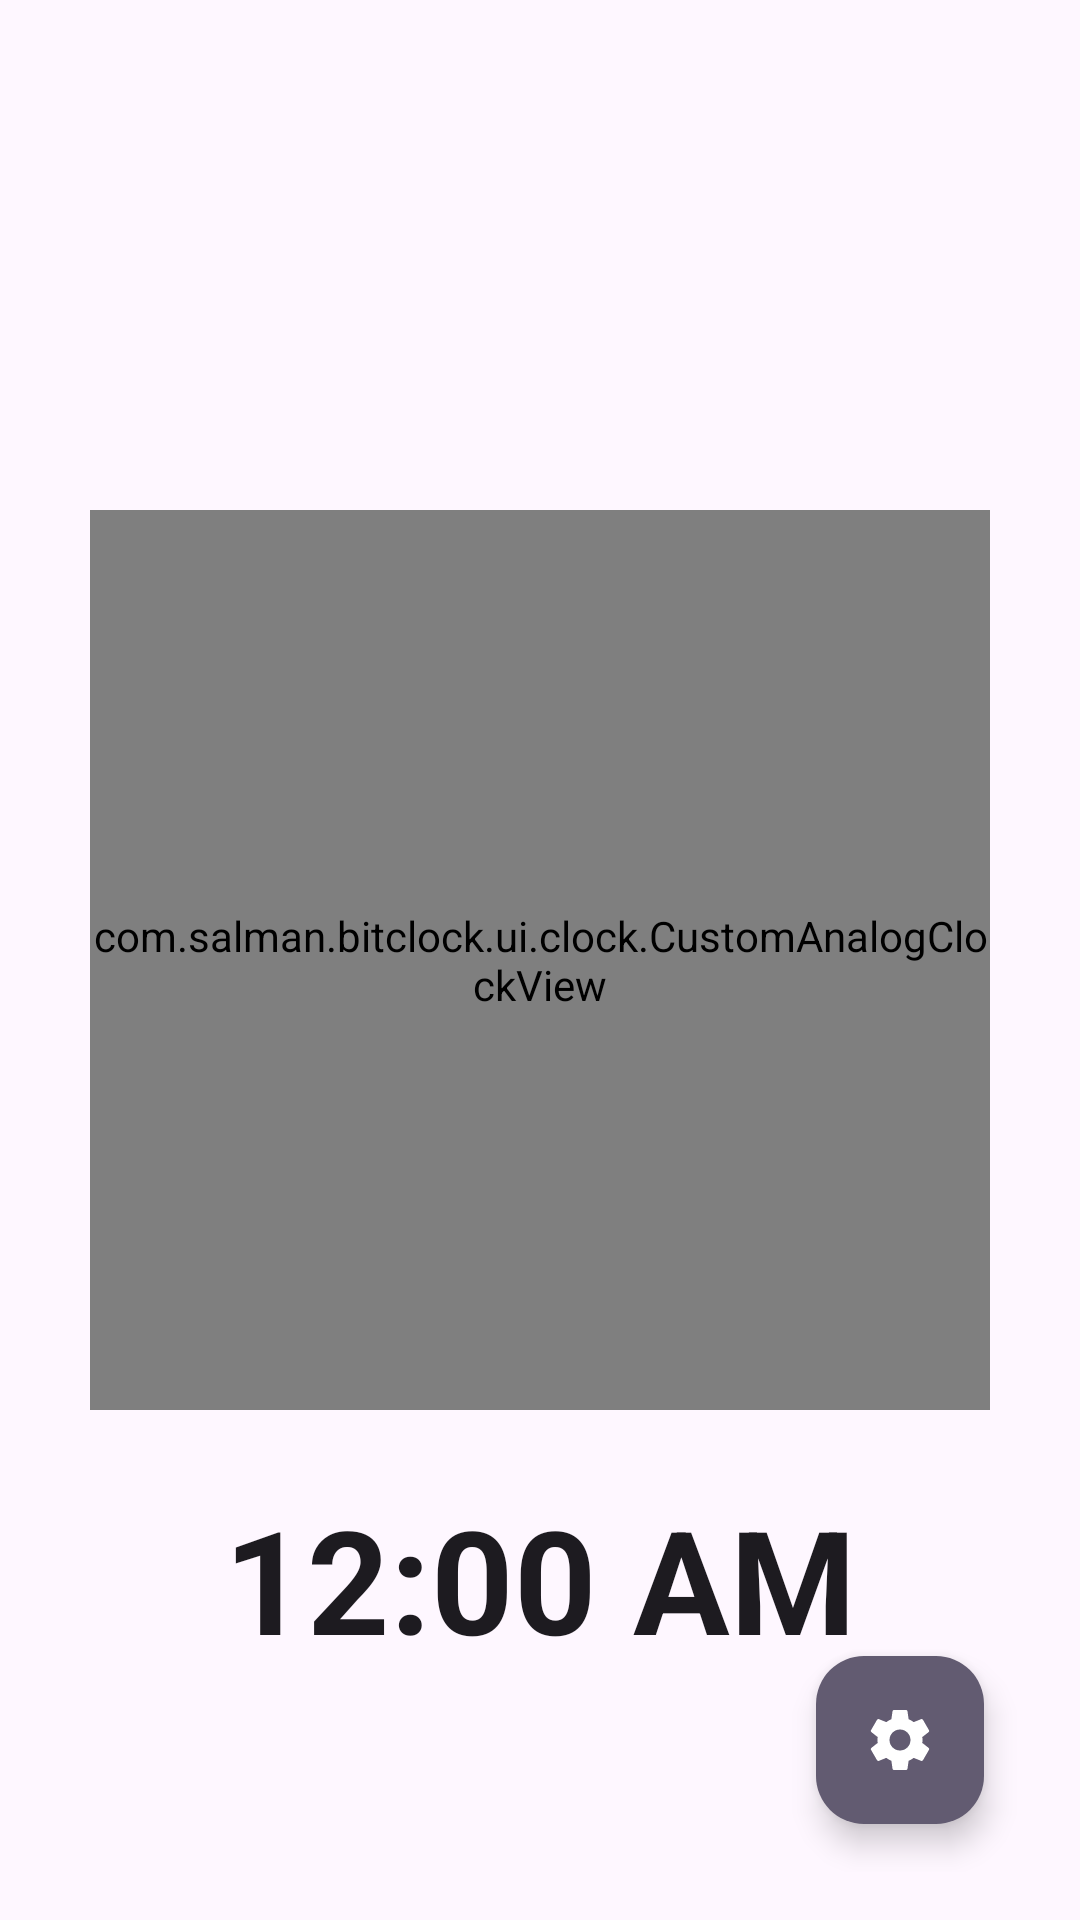

Named icons in this screenshot (1080x1920) and their centers, (x,y):
settings: (900,1740)
